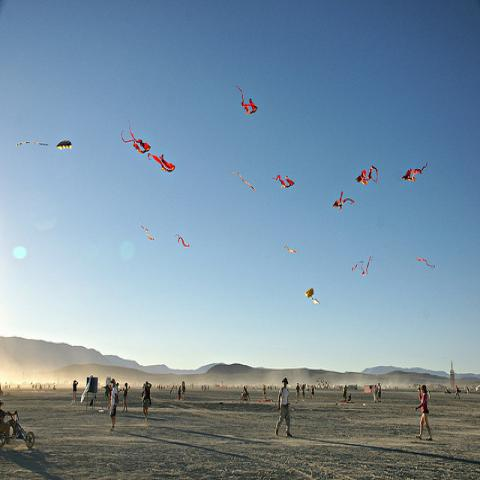motorcycle: (0, 412, 37, 449), (239, 393, 250, 404)
